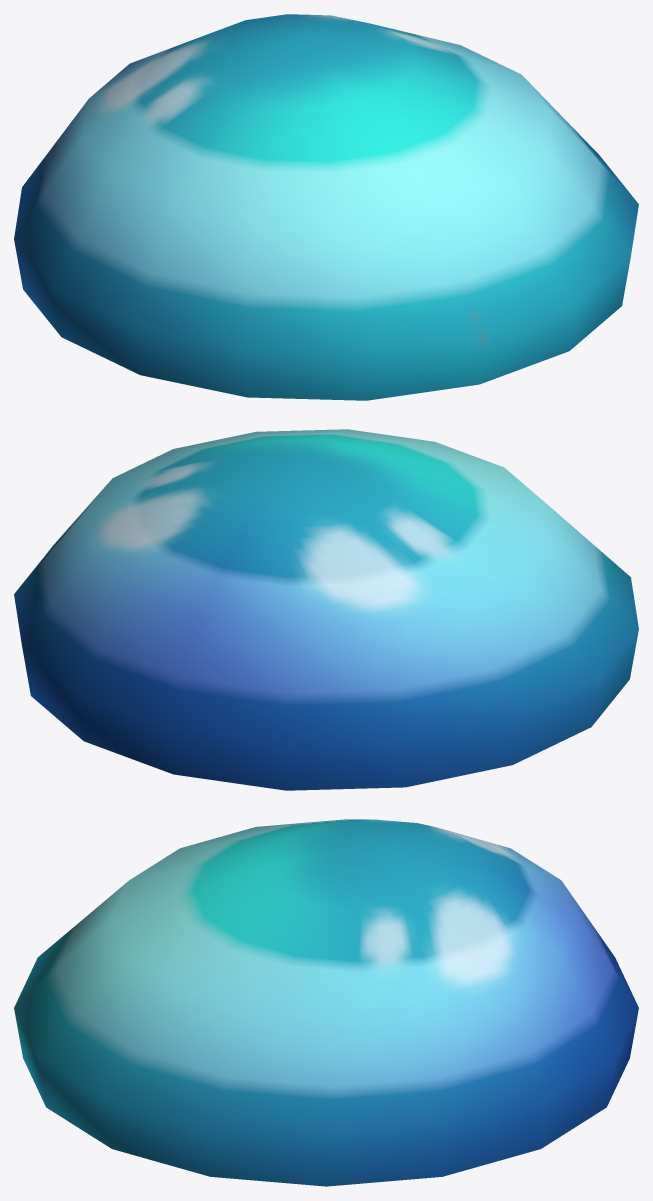
File: scenes_around_candy02c.FBX
The picture shows the model from 3 angles, top to bottom: view 1: azimuth 30°, elevation 25°; view 2: azimuth 150°, elevation 25°; view 3: azimuth 270°, elevation 25°; orthographic projection.
Visible parts, largest first — view 1: scenes_around_candy02c; view 2: scenes_around_candy02c; view 3: scenes_around_candy02c.
Boxes of the visible parts, x1,y1,x2,y2 form: scenes_around_candy02c: (14,14,638,400); scenes_around_candy02c: (14,429,638,790); scenes_around_candy02c: (14,819,638,1186).
Bounding box in the file's own units: 2181 × 823 × 2181.
